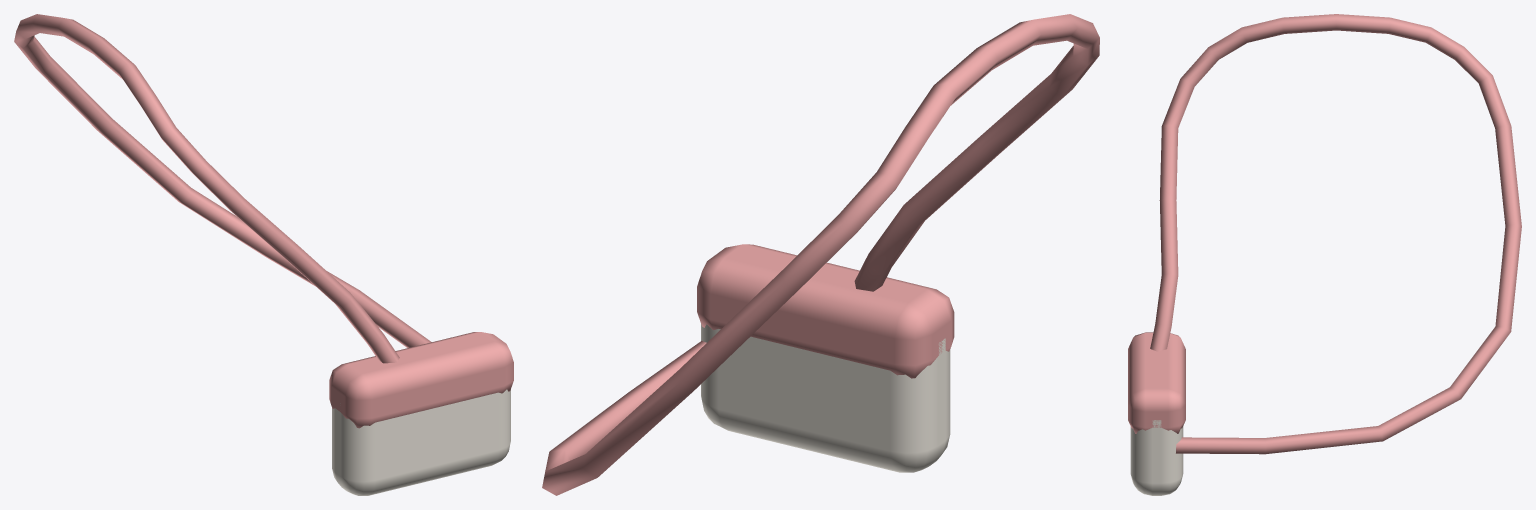
File: gumdrop_shoulder_bag.glb
The picture shows the model from 3 angles, left to right: view 1: azimuth 30°, elevation 25°; view 2: azimuth 150°, elevation 25°; view 3: azimuth 270°, elevation 25°; orthographic projection. The views are drawn at different scales.
Visible parts, largest first — view 1: gumdrop_shoulder_bag_Body; view 2: gumdrop_shoulder_bag_Body; view 3: gumdrop_shoulder_bag_Body.
Boxes of the visible parts, x1,y1,x2,y2 form: gumdrop_shoulder_bag_Body: (14,14,513,495); gumdrop_shoulder_bag_Body: (542,14,1099,495); gumdrop_shoulder_bag_Body: (1128,14,1521,495).
Size of the model in its own units: 0.3581 by 0.4541 by 0.4496.
